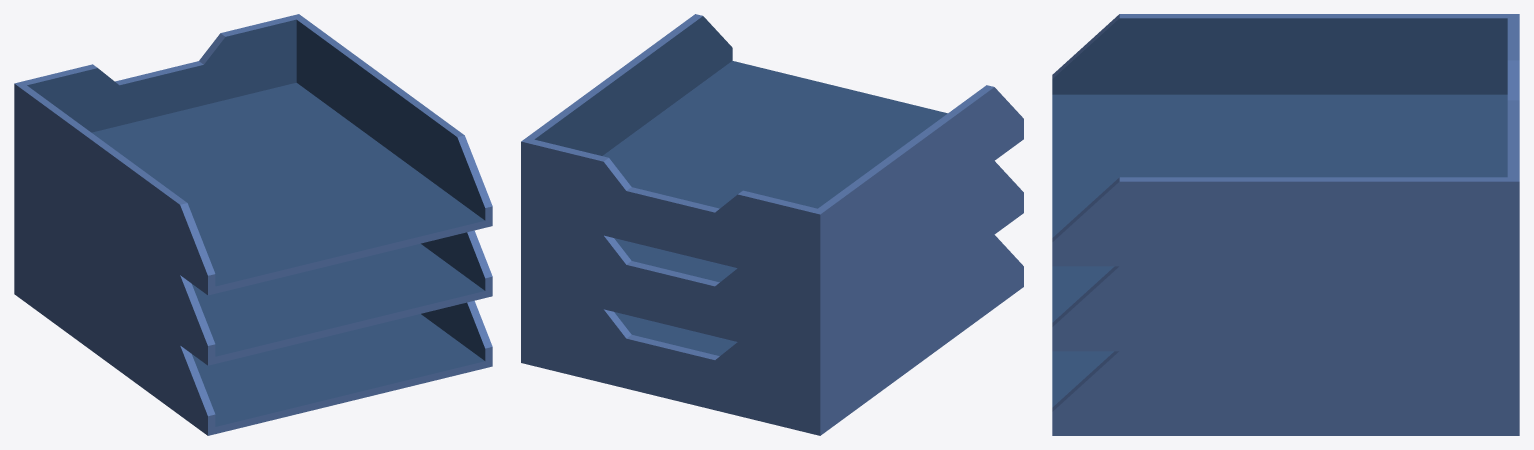
The model's file is Document_Tray_Blue.fbx.
The picture shows the model from 3 angles, left to right: view 1: azimuth 30°, elevation 25°; view 2: azimuth 150°, elevation 25°; view 3: azimuth 270°, elevation 25°; orthographic projection. The views are drawn at different scales.
Parts seen in each view (by area): view 1: File_Paper_TrayPack; view 2: File_Paper_TrayPack; view 3: File_Paper_TrayPack.
Part boxes in pixels (x1,y1,x2,y2): File_Paper_TrayPack: [14, 14, 492, 435]; File_Paper_TrayPack: [521, 14, 1023, 435]; File_Paper_TrayPack: [1052, 14, 1519, 435].
Bounding box in the file's own units: 28 × 19.8 × 33.
